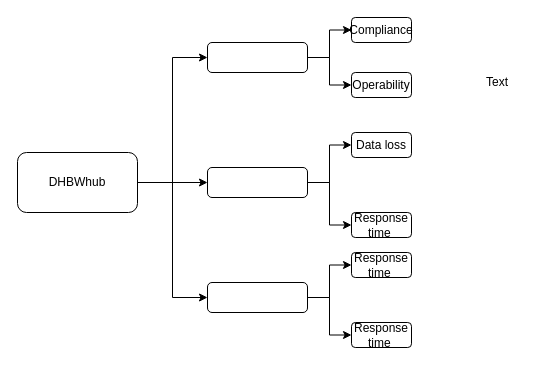
Some shapes in this 545 by 367 pixel diagram are drawn without their labels. Here are the shapes that lost their labels. From the top down, the box of each, then its label:
(206, 42, 308, 72): Usability
(206, 166, 308, 198): Availability
(206, 282, 308, 312): Performance
